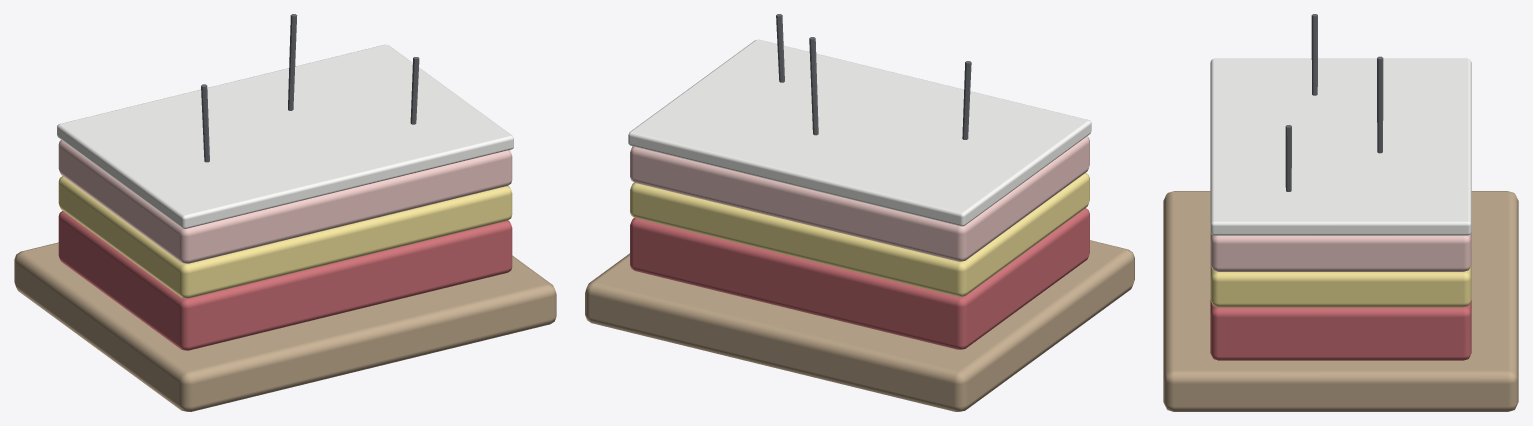
File: human-anatomy-and-education-kit-skin-block-3ddb76c4__38960.glb
3 renders of one model, left to right at view 1: azimuth 30°, elevation 25°; view 2: azimuth 150°, elevation 25°; view 3: azimuth 270°, elevation 25°, orthographic. The views are drawn at different scales.
Visible parts, largest first — view 1: skin-block; view 2: skin-block; view 3: skin-block.
Boxes of the visible parts, box(x1,y1,x2,y2) form: skin-block: box(14, 14, 556, 411); skin-block: box(585, 14, 1134, 411); skin-block: box(1163, 14, 1518, 411).
Bounding box in the file's own units: 0.34 × 0.2351 × 0.272.
